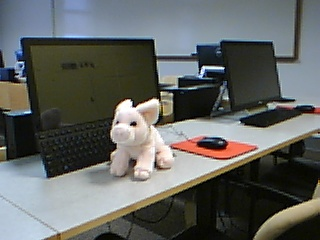piggy: (108, 97, 174, 182)
